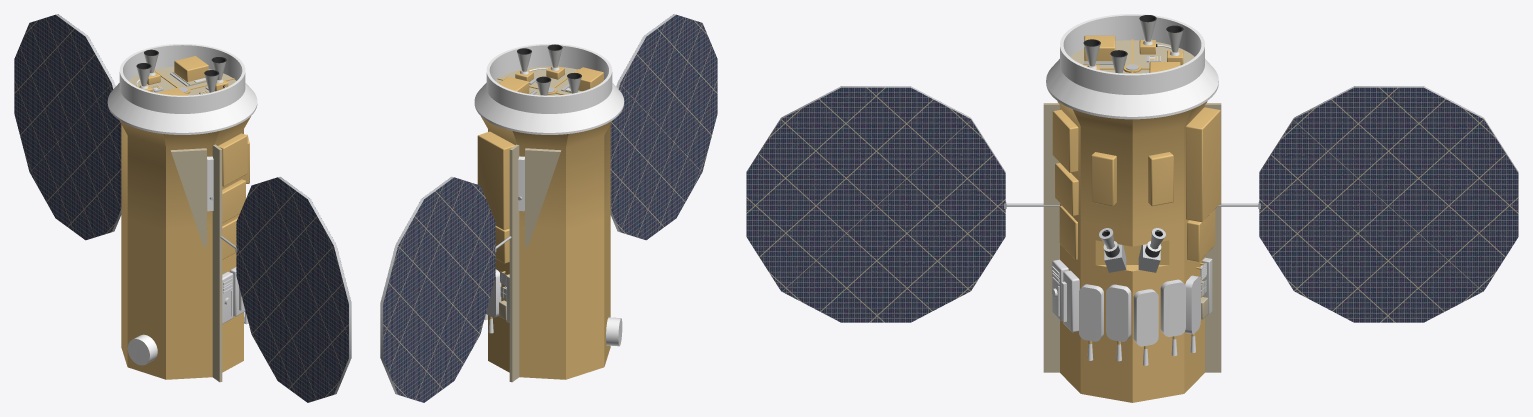
The model's file is desdyni.glb.
The picture shows the model from 3 angles, left to right: view 1: azimuth 30°, elevation 25°; view 2: azimuth 150°, elevation 25°; view 3: azimuth 270°, elevation 25°; orthographic projection. The views are drawn at different scales.
Parts seen in each view (by area): view 1: Layer_0, Layer_1; view 2: Layer_0, Layer_1; view 3: Layer_1, Layer_0.
Part boxes in pixels (x1,y1,x2,y2): Layer_0: [14, 14, 351, 402]; Layer_1: [14, 14, 348, 402]; Layer_0: [380, 14, 717, 402]; Layer_1: [383, 14, 717, 402]; Layer_1: [746, 87, 1518, 322]; Layer_0: [746, 14, 1518, 402].
Size of the model in its own units: 4.79 by 10.2 by 21.28.
Materials: 9 (1 with a texture image).
